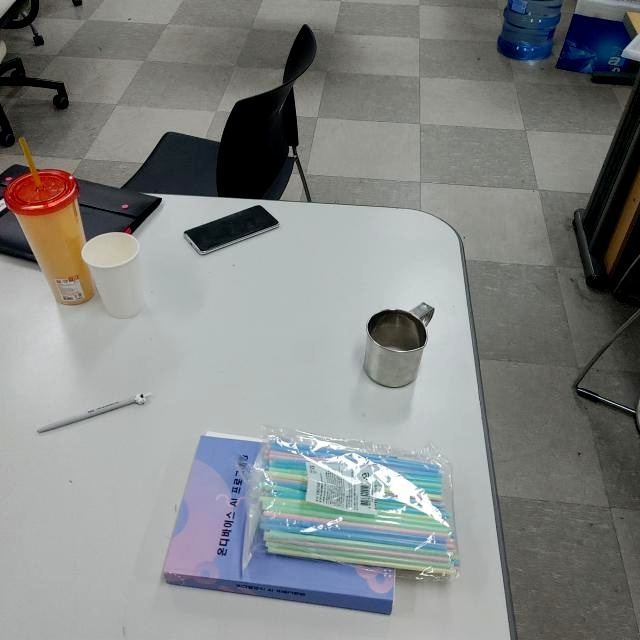cup: (360, 298, 437, 389)
phone: (182, 201, 281, 261)
